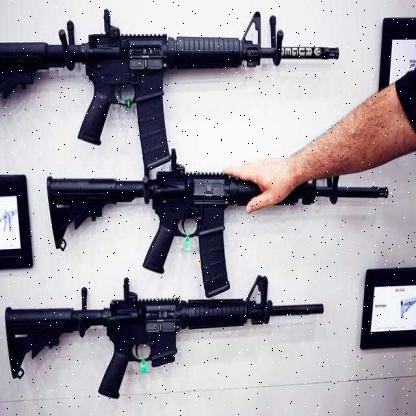rifle: (0, 6, 352, 169), (42, 153, 397, 299), (6, 283, 335, 402)
